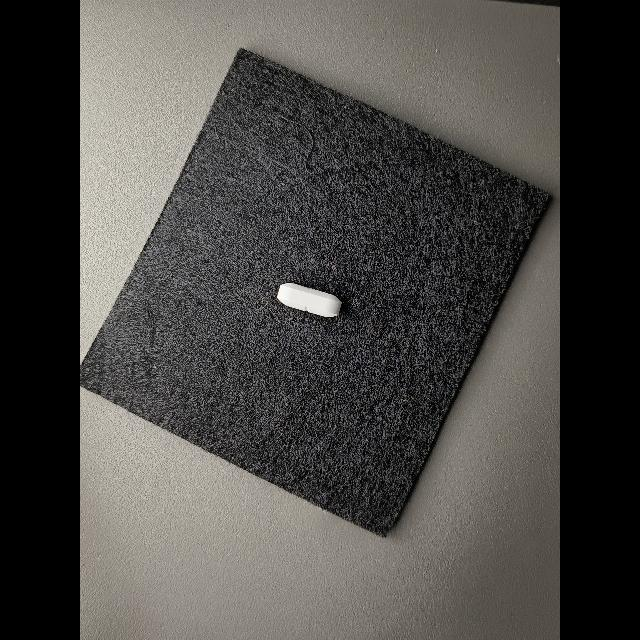Intact Pill: (277, 283, 342, 318)
